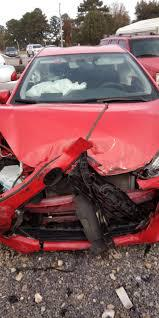bonnet-dent: (2, 96, 158, 165)
front-bumper-dent: (0, 165, 158, 255)
